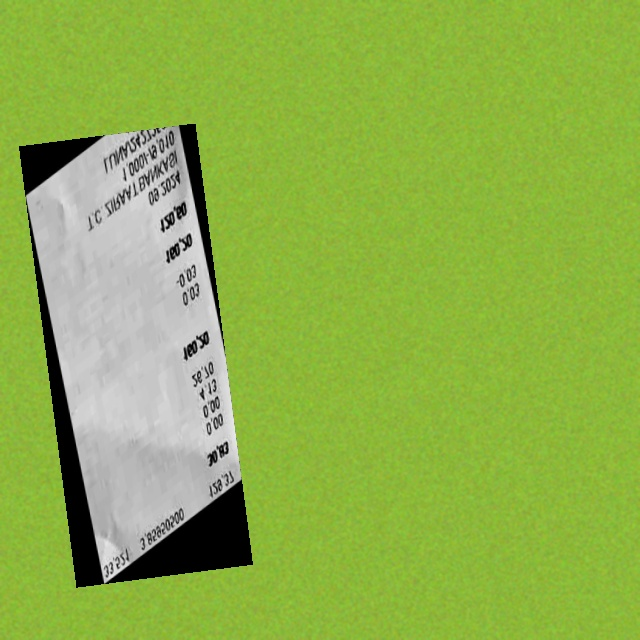electricity-bill: (19, 124, 253, 588)
